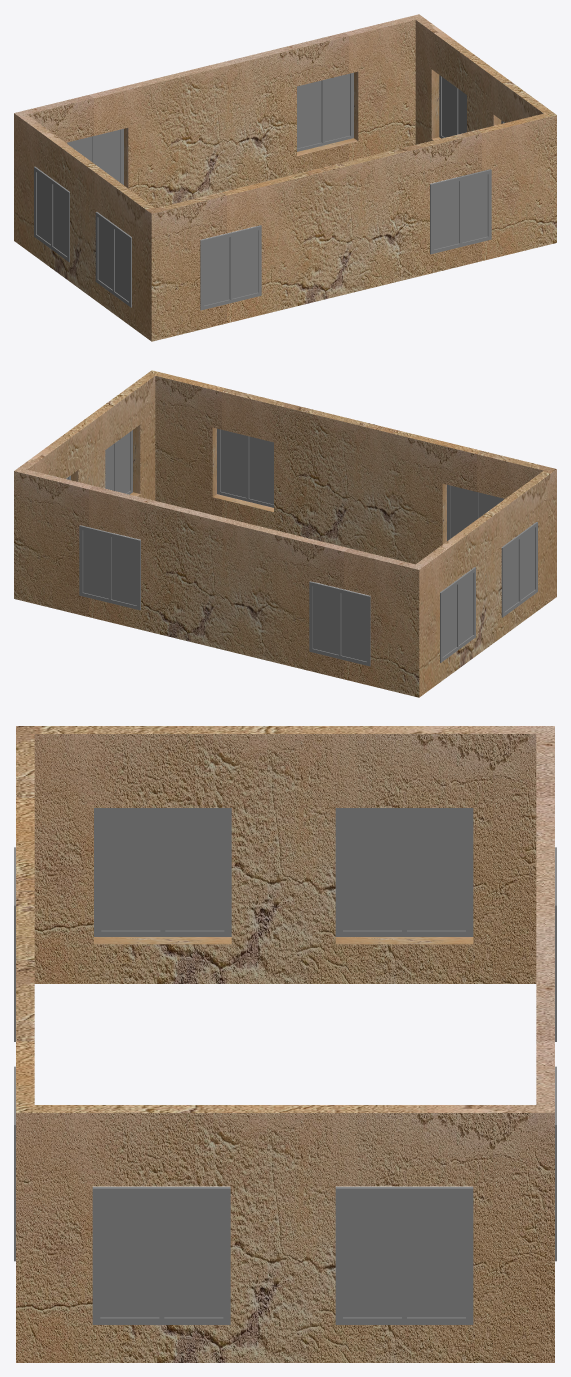
3 views of the same model, one above another, from view 1: azimuth 30°, elevation 25°; view 2: azimuth 150°, elevation 25°; view 3: azimuth 270°, elevation 25° (orthographic). The views are drawn at different scales.
Parts seen in each view (by area): view 1: Rectangle004, CasementWindow015; view 2: Rectangle004, CasementWindow015; view 3: Rectangle004, CasementWindow015.
Boxes of the visible parts, left/top/right/bottom form: Rectangle004: left=14, top=14, right=556, bottom=341; CasementWindow015: left=34, top=72, right=504, bottom=310; Rectangle004: left=14, top=370, right=556, bottom=697; CasementWindow015: left=66, top=428, right=537, bottom=666; Rectangle004: left=16, top=726, right=554, bottom=1362; CasementWindow015: left=14, top=808, right=556, bottom=1324.
Bounding box in the file's own units: 733 × 220 × 433.
7 materials, 1 textured.
